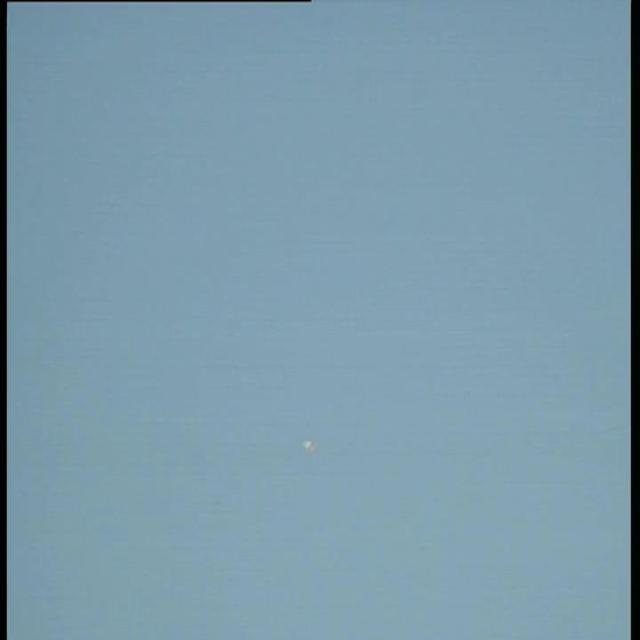drone: (298, 434, 322, 456)
